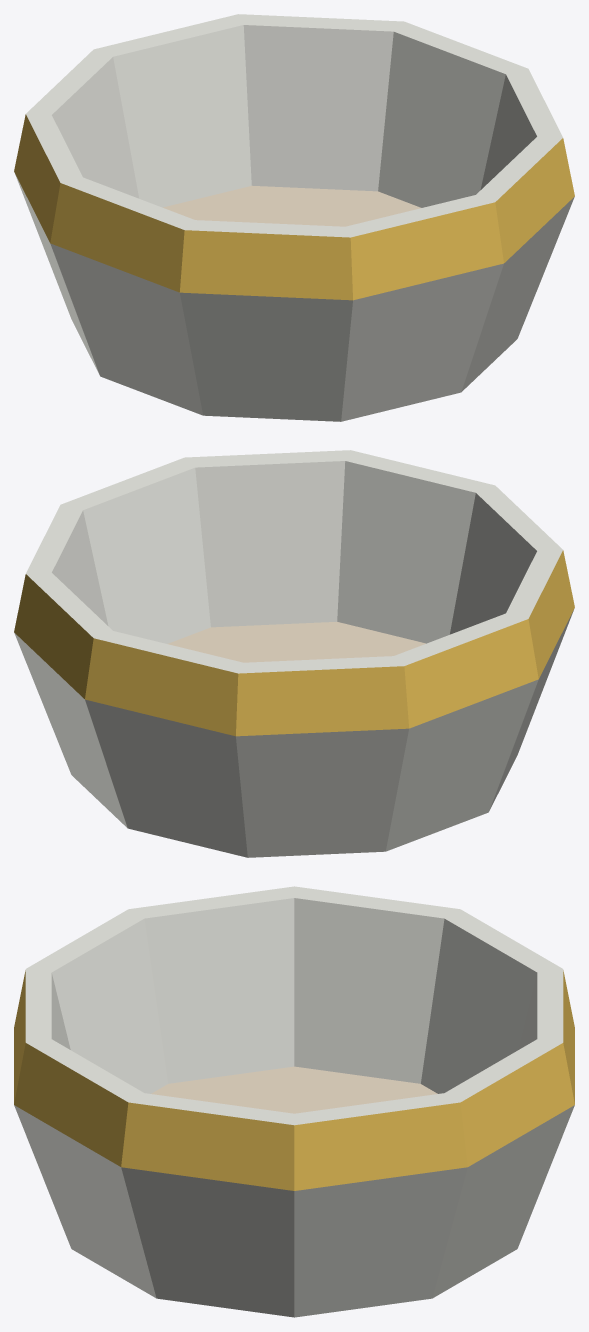
The model's file is Bowl.fbx.
3 renders of one model, top to bottom at view 1: azimuth 30°, elevation 25°; view 2: azimuth 150°, elevation 25°; view 3: azimuth 270°, elevation 25°, orthographic. The views are drawn at different scales.
Parts seen in each view (by area): view 1: pCylinder44; view 2: pCylinder44; view 3: pCylinder44.
Part boxes in pixels (x1,y1,x2,y2): pCylinder44: [14, 14, 574, 421]; pCylinder44: [14, 450, 574, 857]; pCylinder44: [14, 886, 574, 1317].
Size of the model in its own units: 0.2892 by 0.115 by 0.275.
Materials: 1 (1 with a texture image).
